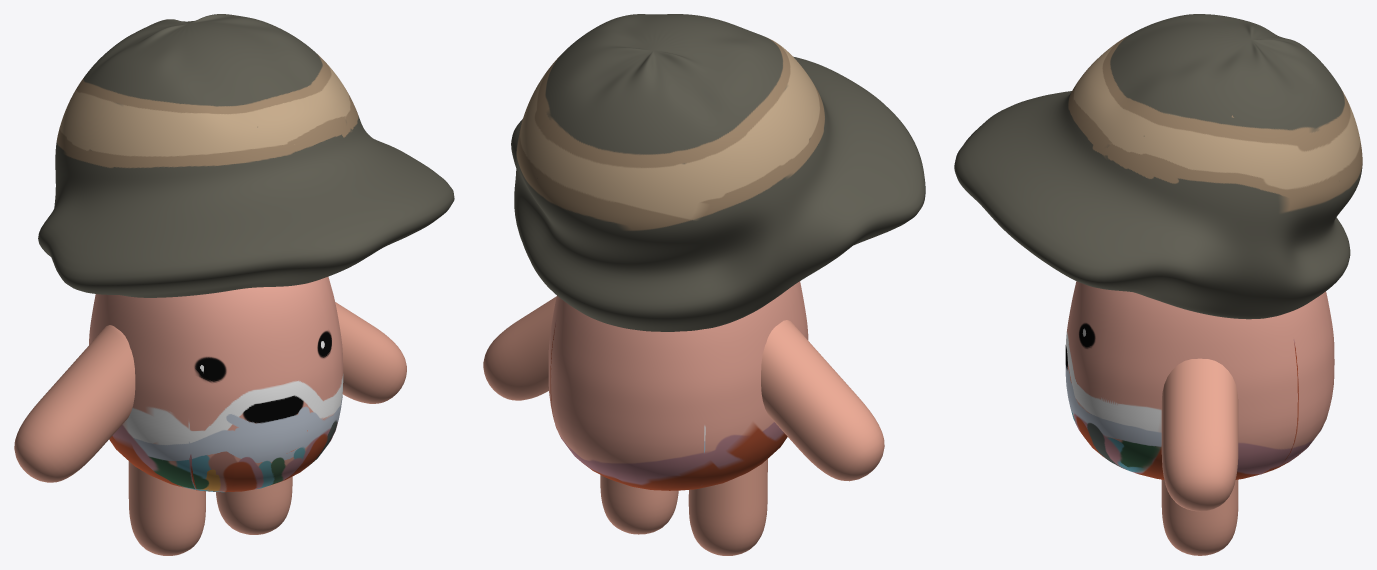
Rendered from Hermete.glb.
3 views of the same model, side by side, from view 1: azimuth 30°, elevation 25°; view 2: azimuth 150°, elevation 25°; view 3: azimuth 270°, elevation 25° (orthographic). The views are drawn at different scales.
Parts seen in each view (by area): view 1: Sphere, Cube.001; view 2: Sphere, Cube.001; view 3: Sphere, Cube.001.
Part boxes in pixels (x1,y1,x2,y2): Sphere: (38, 14, 454, 297); Cube.001: (14, 276, 406, 555); Sphere: (511, 14, 925, 331); Cube.001: (483, 281, 884, 555); Sphere: (954, 14, 1362, 319); Cube.001: (1065, 281, 1334, 555).
Size of the model in its own units: 2.94 by 3.7 by 2.75.
3 materials, 2 textured.
